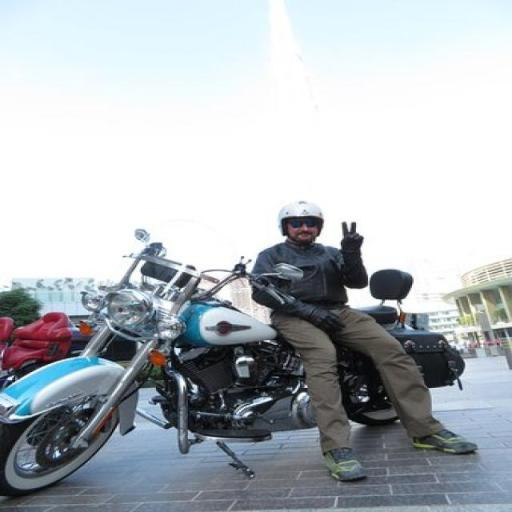Helmet: (279, 201, 323, 235)
Motor: (0, 231, 315, 495), (0, 312, 71, 388)
